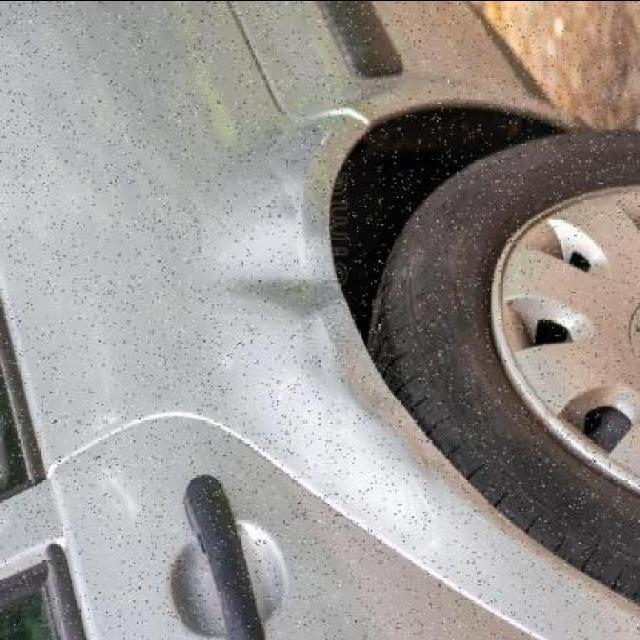quaterpanel-dent: (8, 13, 489, 490)
